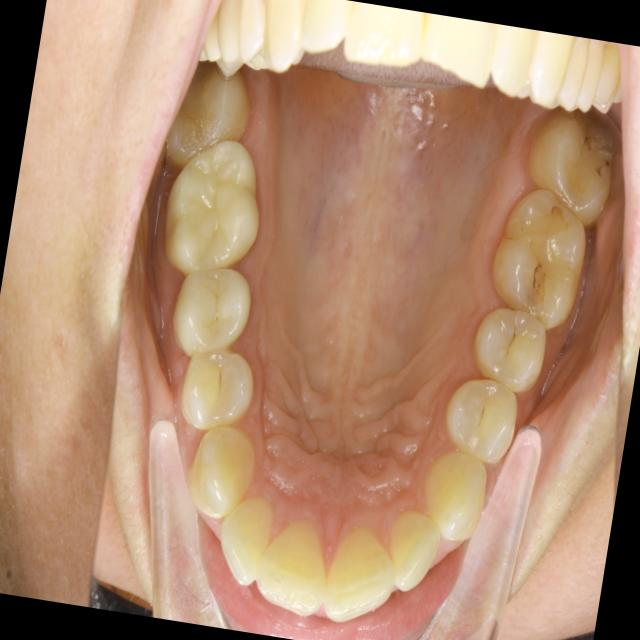tooth: (152, 119, 284, 300), (473, 170, 605, 348), (515, 102, 630, 235), (306, 507, 412, 639), (457, 288, 567, 410), (156, 61, 265, 184), (160, 254, 265, 377), (247, 511, 346, 634), (432, 363, 533, 477), (180, 410, 267, 538), (169, 340, 266, 447), (206, 488, 288, 607), (369, 488, 451, 602), (412, 448, 498, 551)
